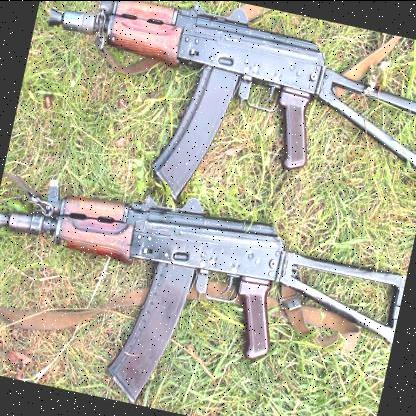rifle: (0, 165, 410, 416), (16, 0, 416, 247)
